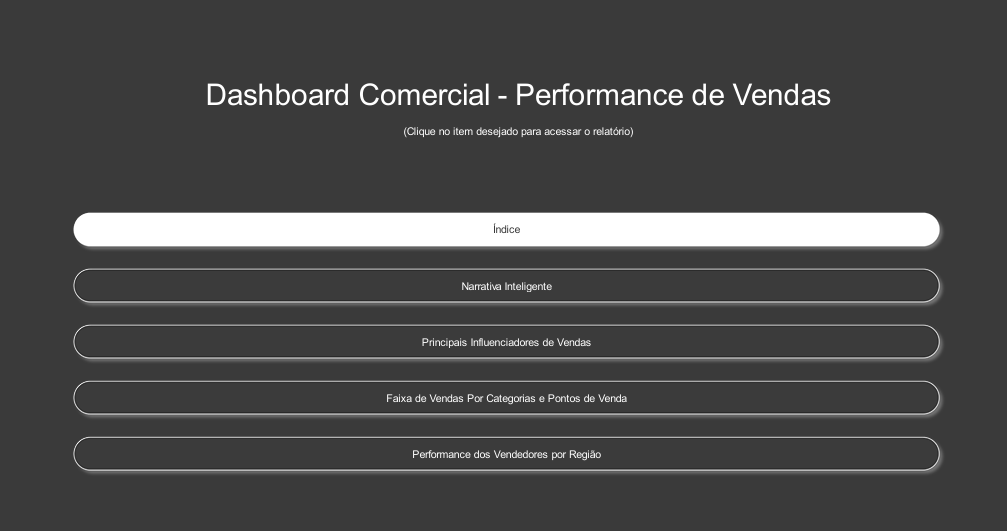

This screenshot's page, from the dashboard's own definition file:
{"tool":"powerbi","page":{"name":"Índice","canvas":[1280,720],"ordinal":0},"visuals":[{"type":"pageNavigator","box":[88.9,259.7,1101.6,341.8],"z":0},{"type":"textbox","box":[102.5,94.6,1102.8,115.1],"z":1000}]}

Visuals, with their boxes on the page's 1280x720 design canvas (x1, y1, x2, y2). These are canvas units, not pixel positions in the 1007x531 screenshot, which may show the page scaled, cropped or inside an application window:
pageNavigator: <region>89, 260, 1190, 602</region>
textbox: <region>102, 95, 1205, 210</region>
